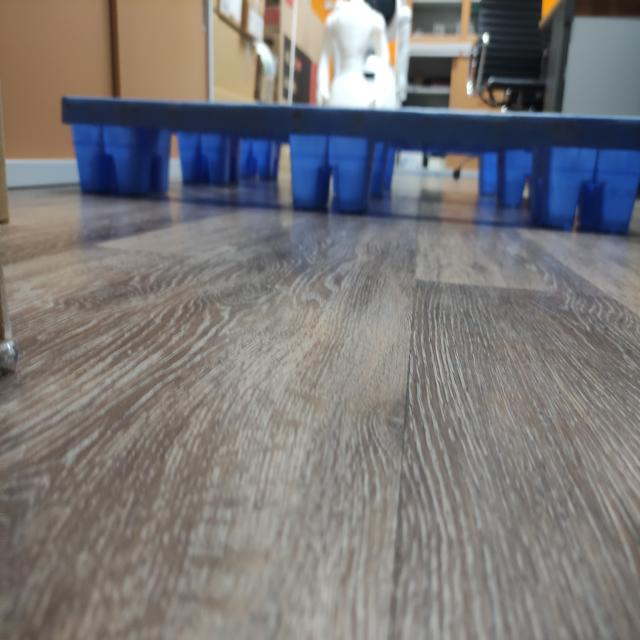block: (553, 146, 640, 238), (293, 137, 366, 217), (70, 121, 139, 200), (180, 135, 227, 194)
front: (60, 90, 640, 238)
